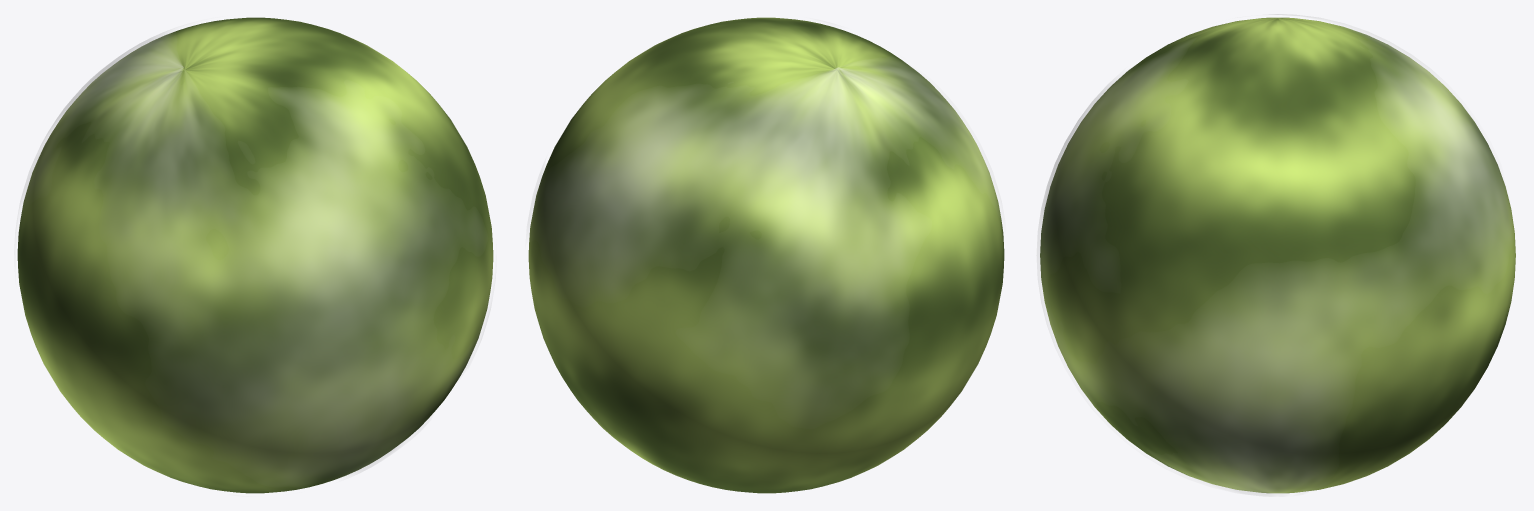
Rendered from miasma.glb.
The picture shows the model from 3 angles, left to right: view 1: azimuth 30°, elevation 25°; view 2: azimuth 150°, elevation 25°; view 3: azimuth 270°, elevation 25°; orthographic projection.
Visible parts, largest first — view 1: Surface, Clouds; view 2: Surface, Clouds; view 3: Surface, Clouds.
Part boxes in pixels (box(x1,y1,x2,y2)): Surface: box(17, 17, 493, 493); Clouds: box(19, 29, 490, 480); Surface: box(528, 17, 1004, 493); Clouds: box(528, 20, 1001, 397); Surface: box(1040, 17, 1515, 493); Clouds: box(1037, 14, 1510, 496).
Bounding box in the file's own units: 2.03 × 2.03 × 2.03.
2 materials, 2 textured.
